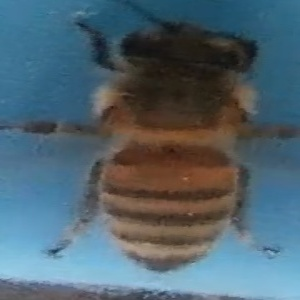bee: (13, 1, 300, 273)
